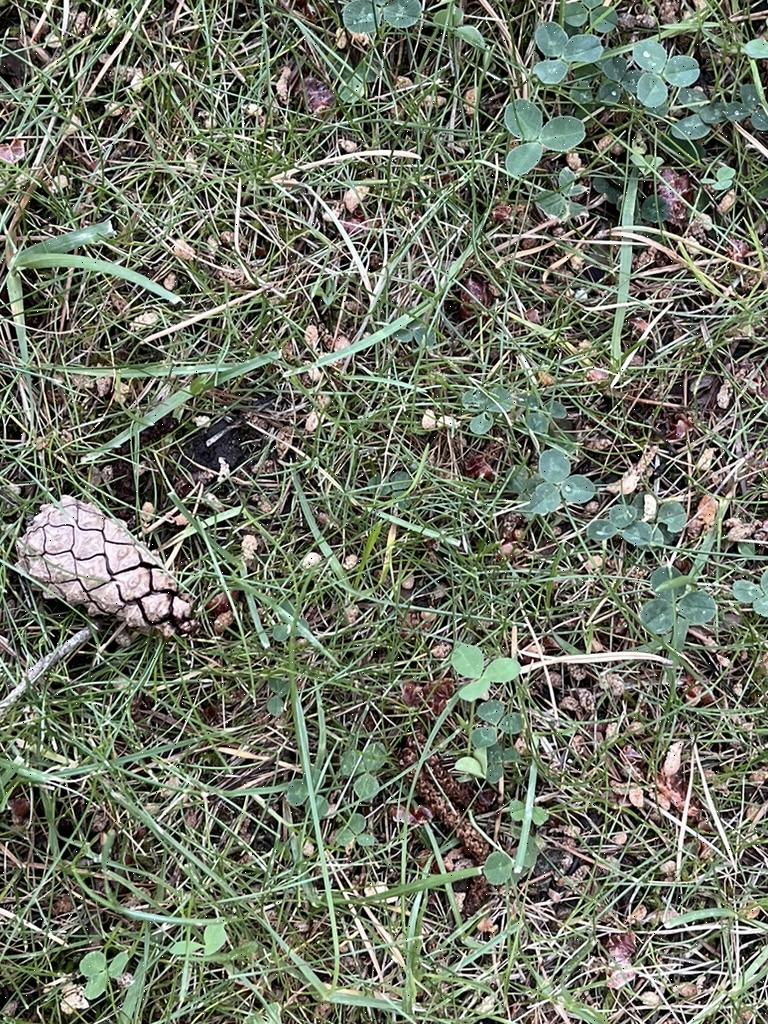pine: (6, 478, 218, 663)
